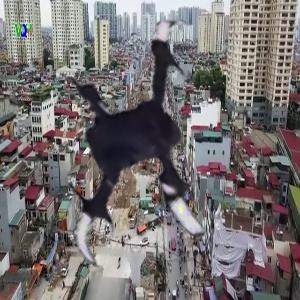drone: (19, 21, 285, 287)
